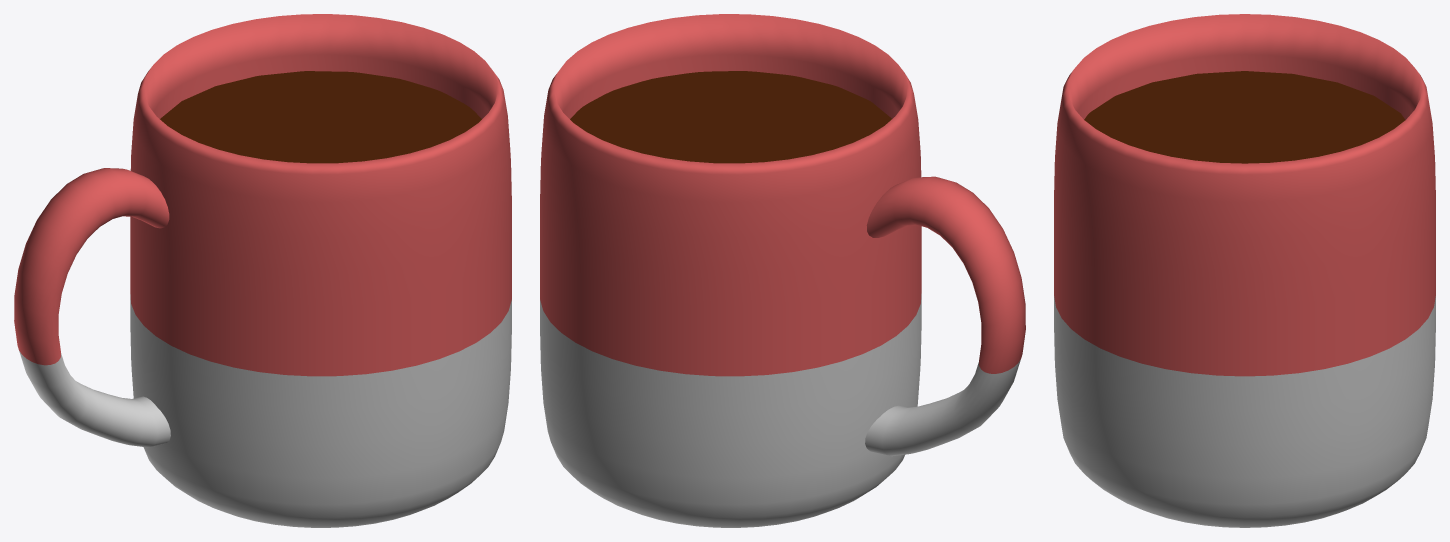
Rendered from mug.glb.
The picture shows the model from 3 angles, left to right: view 1: azimuth 30°, elevation 25°; view 2: azimuth 150°, elevation 25°; view 3: azimuth 270°, elevation 25°; orthographic projection.
Visible parts, largest first — view 1: Cylinder002, Cylinder004, Arc002; view 2: Cylinder002, Cylinder004, Arc002; view 3: Cylinder002, Cylinder004.
Boxes of the visible parts, bbox=[...] form: Cylinder002: bbox=[130, 14, 511, 527]; Cylinder004: bbox=[160, 71, 481, 163]; Arc002: bbox=[14, 168, 170, 447]; Cylinder002: bbox=[540, 14, 921, 527]; Cylinder004: bbox=[570, 71, 891, 163]; Arc002: bbox=[865, 176, 1025, 456]; Cylinder002: bbox=[1054, 14, 1435, 527]; Cylinder004: bbox=[1084, 71, 1405, 163].
Size of the model in its own units: 46.45 by 37.34 by 33.57.
